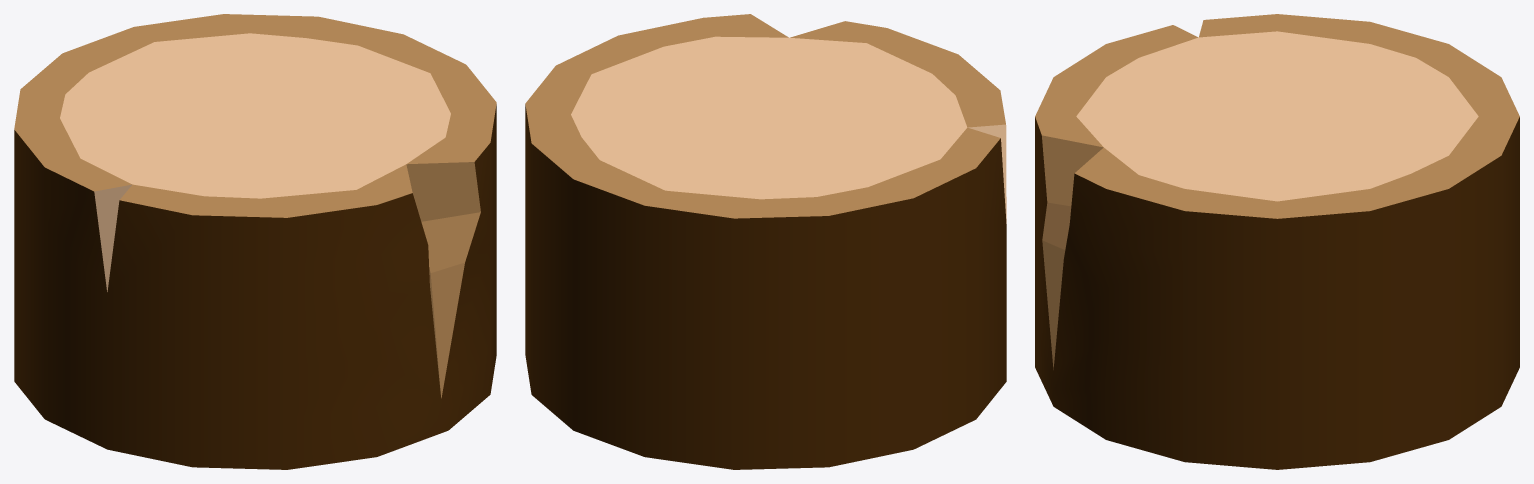
The model's file is Sem4_Prop_BaumstumpfSitz_JT_M (1).fbx.
The picture shows the model from 3 angles, left to right: view 1: azimuth 30°, elevation 25°; view 2: azimuth 150°, elevation 25°; view 3: azimuth 270°, elevation 25°; orthographic projection.
Parts seen in each view (by area): view 1: Baumstumpf_sitz; view 2: Baumstumpf_sitz; view 3: Baumstumpf_sitz.
Boxes of the visible parts, left/top/right/bottom form: Baumstumpf_sitz: left=14, top=14, right=496, bottom=469; Baumstumpf_sitz: left=525, top=14, right=1006, bottom=469; Baumstumpf_sitz: left=1035, top=14, right=1519, bottom=469.
Bounding box in the file's own units: 70 × 40 × 70.
